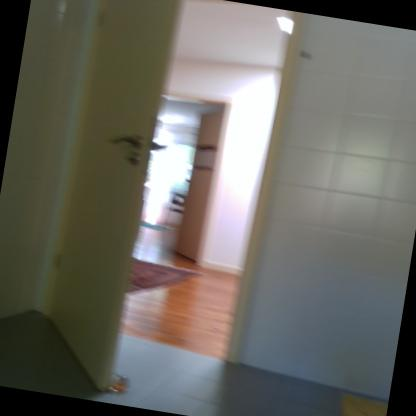semi: (29, 0, 312, 415)
